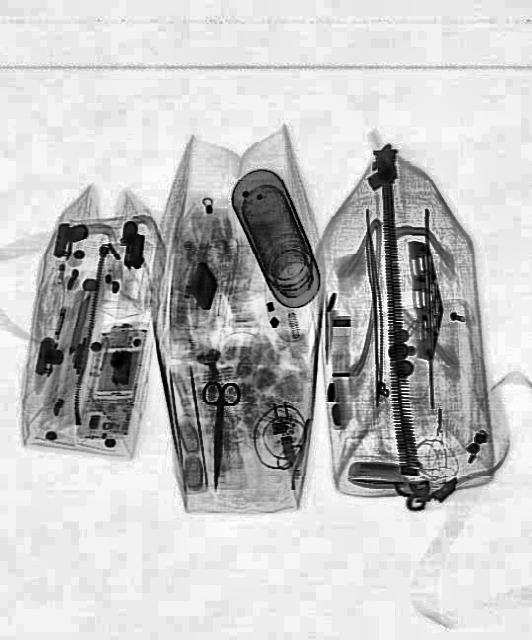Scissors: (196, 379, 240, 493)
